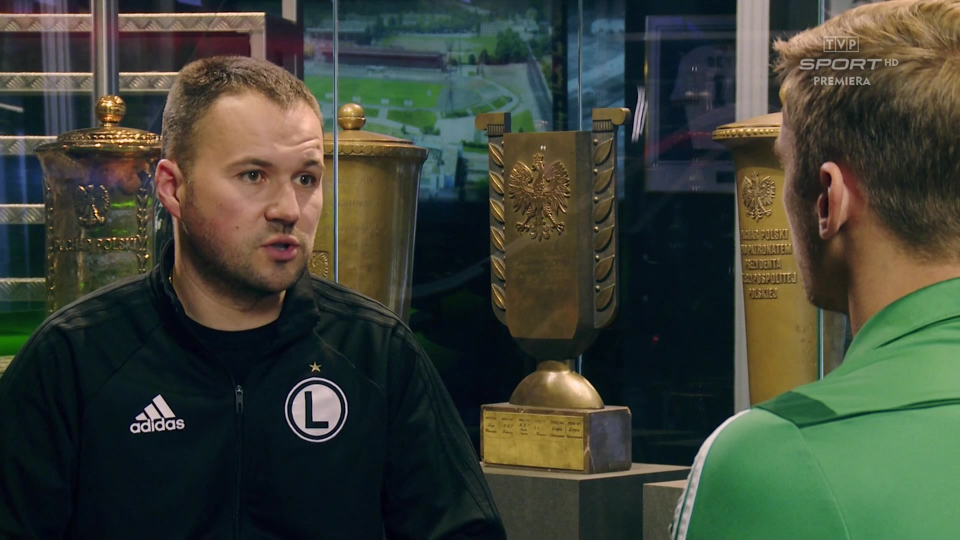Adidas: (130, 394, 185, 434)
